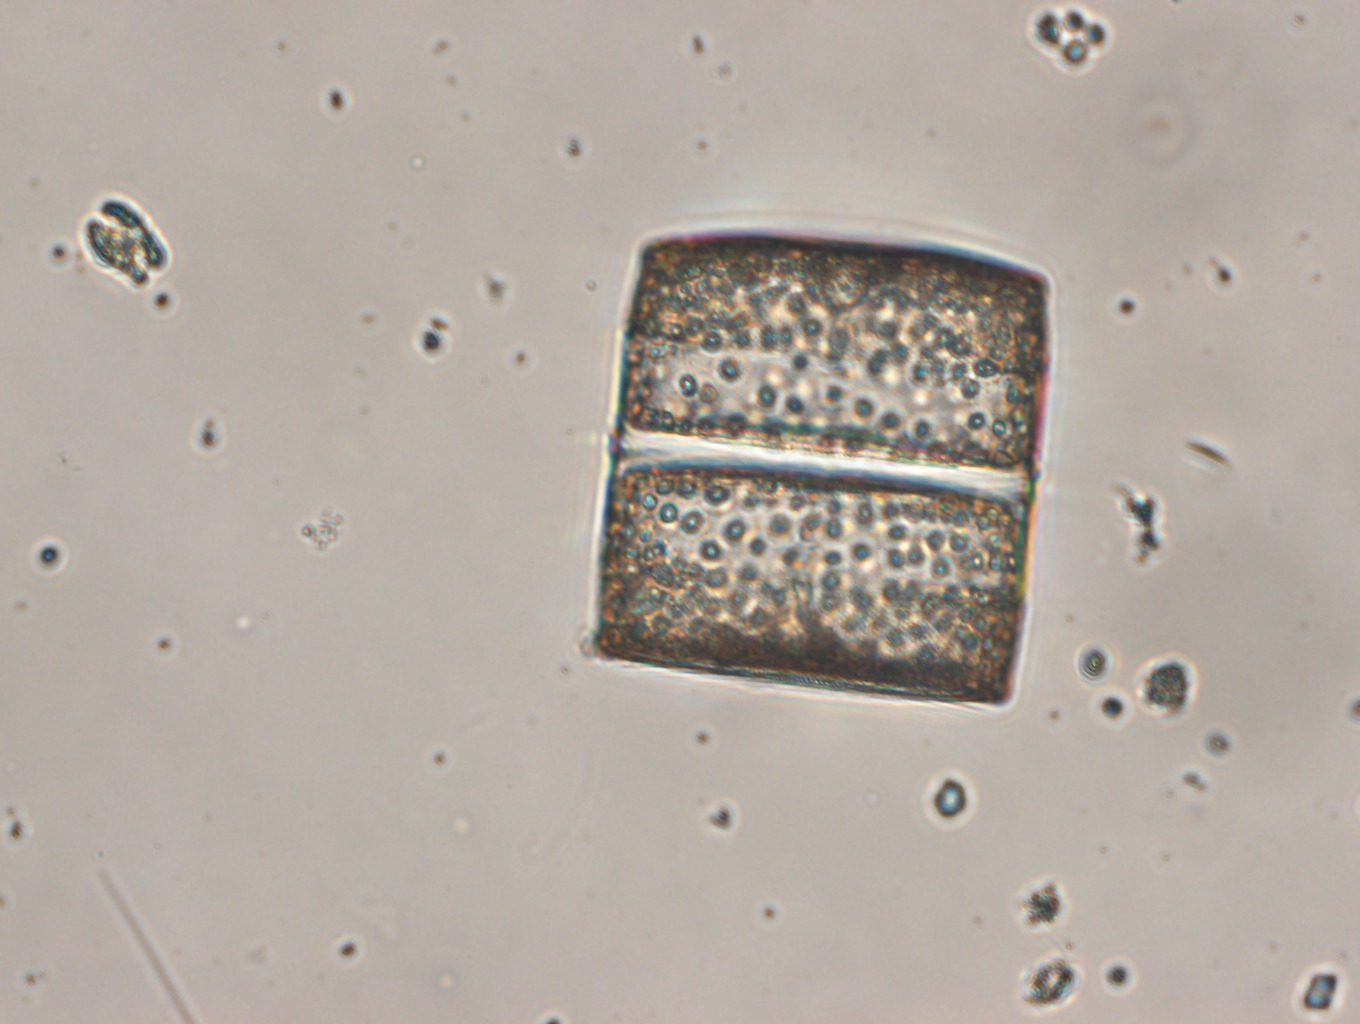coscinodiscus flank: (578, 211, 1061, 730)
